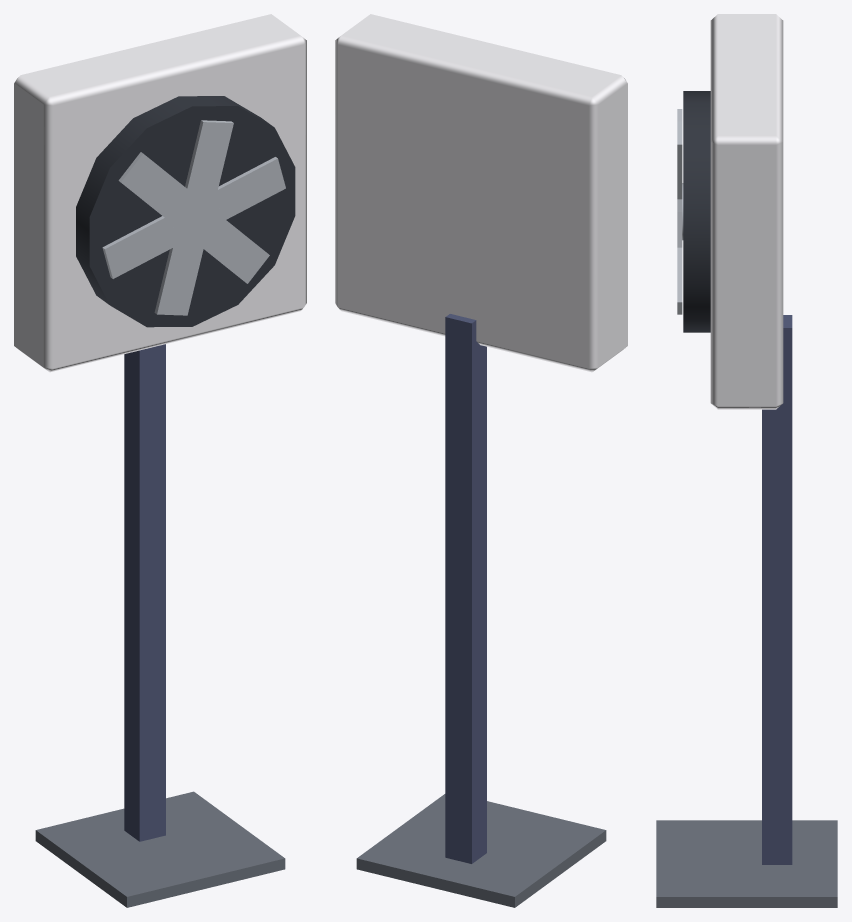
File: station_transport_ausstattung_1_1.glb
3 renders of one model, left to right at view 1: azimuth 30°, elevation 25°; view 2: azimuth 150°, elevation 25°; view 3: azimuth 270°, elevation 25°, orthographic.
Visible parts, largest first — view 1: station_transport_ausstattung_1_1; view 2: station_transport_ausstattung_1_1; view 3: station_transport_ausstattung_1_1.
Part boxes in pixels (box(x1,y1,x2,y2)): station_transport_ausstattung_1_1: box(14, 14, 306, 907); station_transport_ausstattung_1_1: box(335, 14, 627, 907); station_transport_ausstattung_1_1: box(656, 14, 837, 907).
Bounding box in the file's own units: 0.5 × 1.45 × 0.3.
